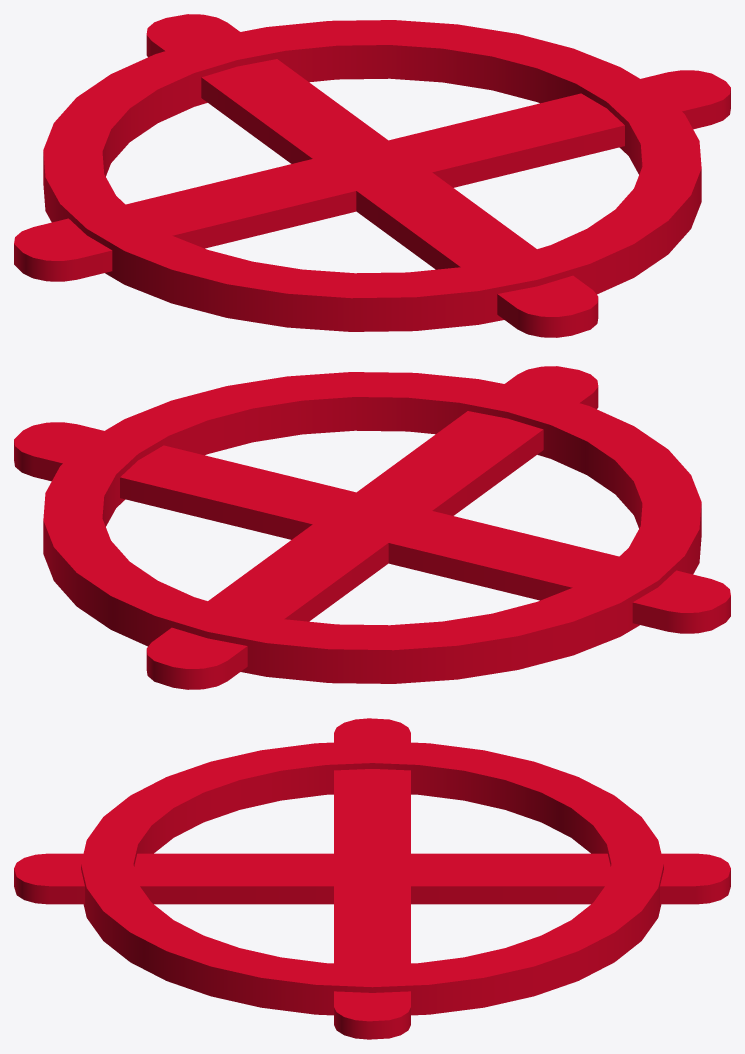
The model's file is TargetingReticle.fbx.
3 views of the same model, one above another, from view 1: azimuth 30°, elevation 25°; view 2: azimuth 150°, elevation 25°; view 3: azimuth 270°, elevation 25° (orthographic). The views are drawn at different scales.
Visible parts, largest first — view 1: TargetingReticle; view 2: TargetingReticle; view 3: TargetingReticle.
Boxes of the visible parts, box(x1,y1,x2,y2) form: TargetingReticle: box(14, 14, 730, 337); TargetingReticle: box(14, 366, 730, 689); TargetingReticle: box(14, 718, 730, 1039).
Size of the model in its own units: 3.77 by 0.1731 by 3.77.
